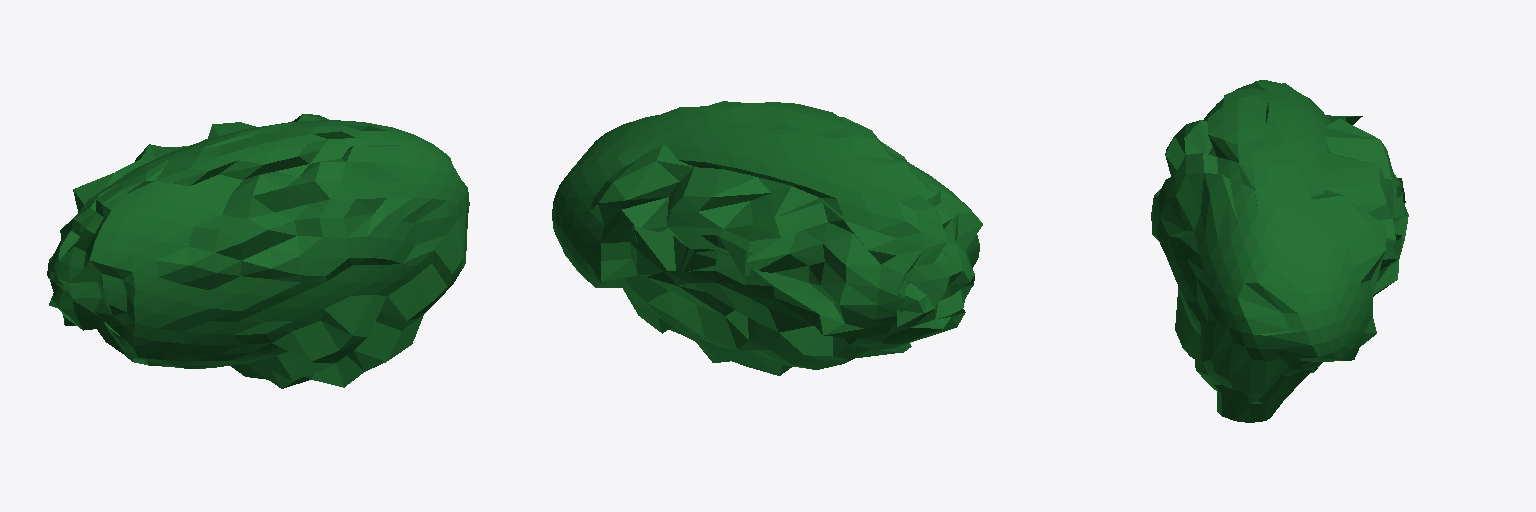
The model's file is Sphere_from_probuider.obj.
3 renders of one model, left to right at view 1: azimuth 30°, elevation 25°; view 2: azimuth 150°, elevation 25°; view 3: azimuth 270°, elevation 25°, orthographic.
Visible parts, largest first — view 1: Sphere_from_probuider; view 2: Sphere_from_probuider; view 3: Sphere_from_probuider.
Boxes of the visible parts, x1,y1,x2,y2 form: Sphere_from_probuider: [47, 114, 469, 388]; Sphere_from_probuider: [552, 101, 982, 375]; Sphere_from_probuider: [1151, 80, 1408, 422].
Size of the model in its own units: 5.35 by 3.32 by 2.96.